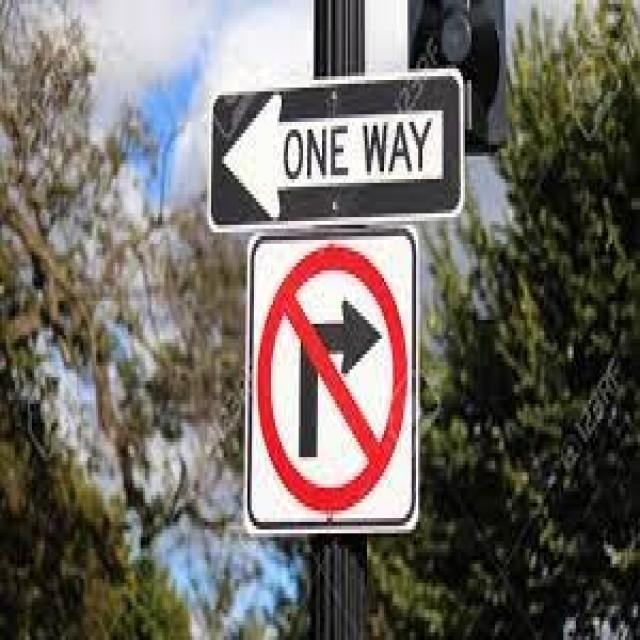do_not_turn_right: (256, 244, 407, 516)
